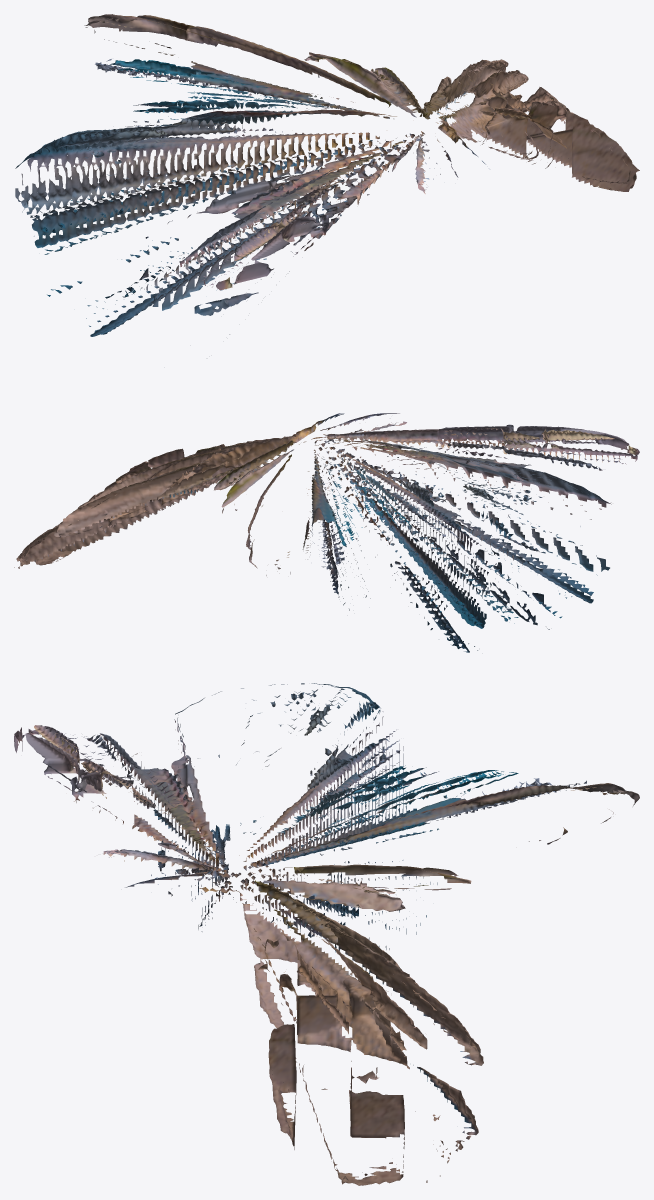
Rendered from antikythera-collider.glb.
The picture shows the model from 3 angles, top to bottom: view 1: azimuth 30°, elevation 25°; view 2: azimuth 150°, elevation 25°; view 3: azimuth 270°, elevation 25°; orthographic projection. The views are drawn at different scales.
Visible parts, largest first — view 1: world; view 2: world; view 3: world.
Part boxes in pixels (<box>): world: <box>15,14,639,336</box>; world: <box>14,413,639,652</box>; world: <box>14,683,639,1185</box>.
Size of the model in its own units: 145 by 46.39 by 119.
